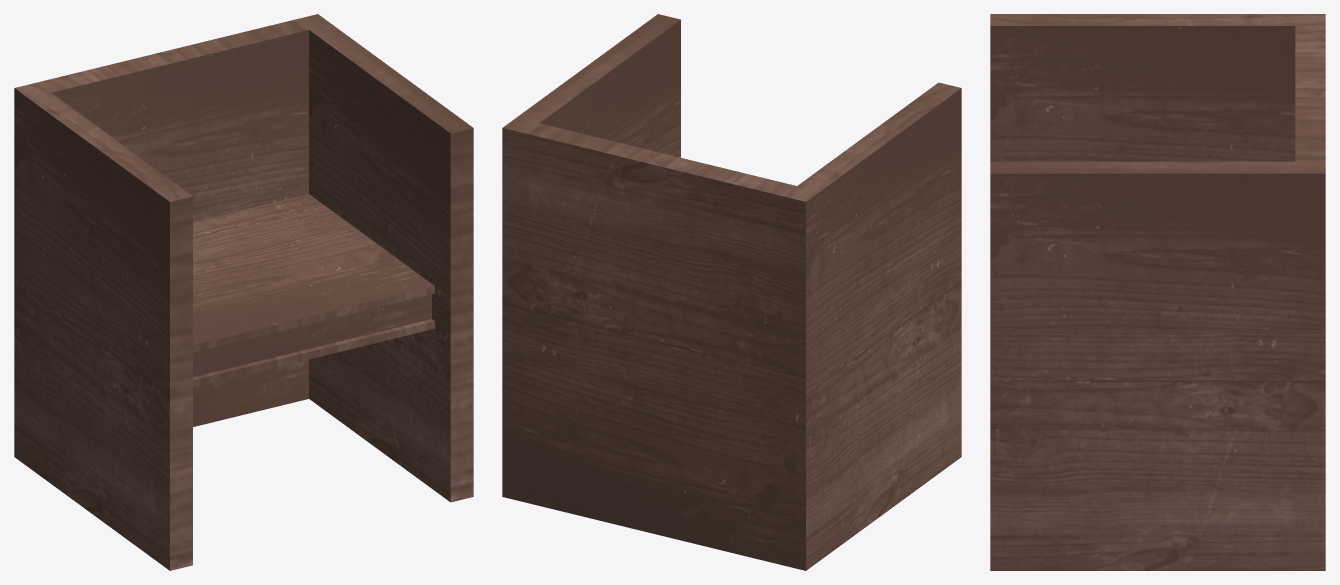
The model's file is multimedia_desk.fbx.
3 renders of one model, left to right at view 1: azimuth 30°, elevation 25°; view 2: azimuth 150°, elevation 25°; view 3: azimuth 270°, elevation 25°, orthographic. The views are drawn at different scales.
Parts seen in each view (by area): view 1: multimedia_desk; view 2: multimedia_desk; view 3: multimedia_desk.
Part boxes in pixels (x1=…): multimedia_desk: x1=14, y1=14, x2=473, y2=570; multimedia_desk: x1=502, y1=14, x2=961, y2=570; multimedia_desk: x1=990, y1=14, x2=1325, y2=570.
Bounding box in the file's own units: 0.00861 × 0.01 × 0.00765.
1 material, 1 textured.
